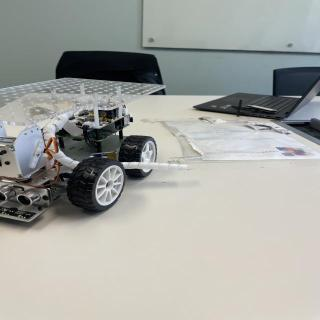vehicle: (3, 79, 161, 233)
